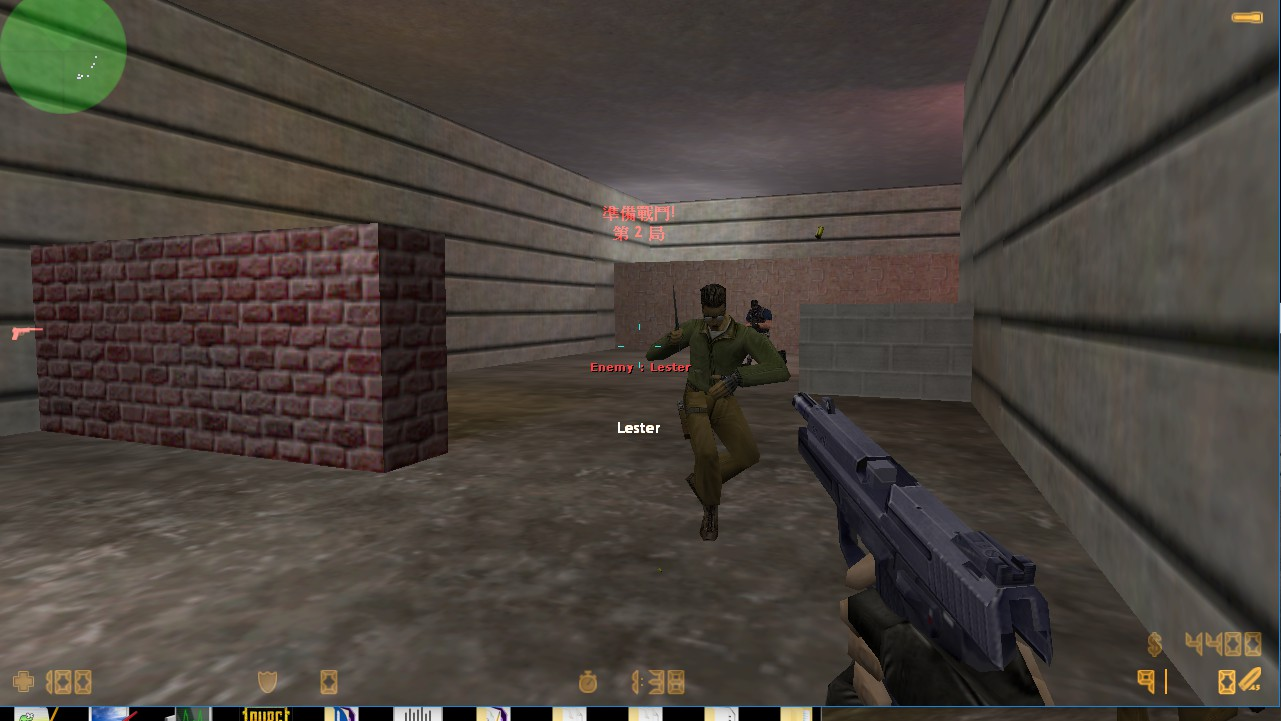person: (662, 281, 773, 553), (742, 296, 774, 336)
